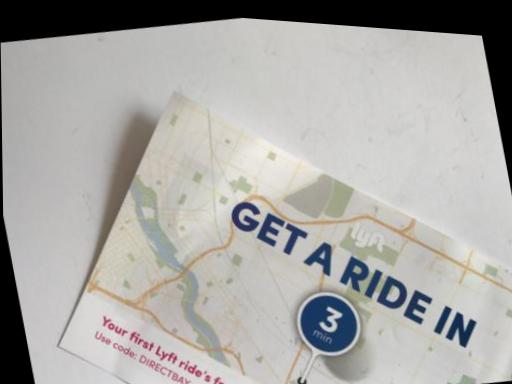paper: (8, 95, 511, 383)
